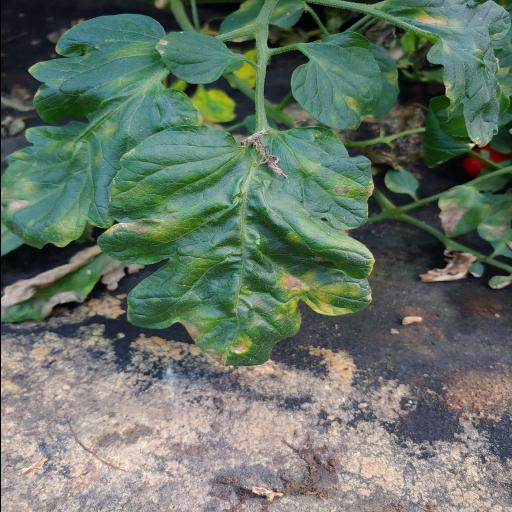Leaf Mold: (94, 123, 376, 367), (0, 14, 201, 249), (378, 0, 512, 148), (288, 32, 400, 132)
